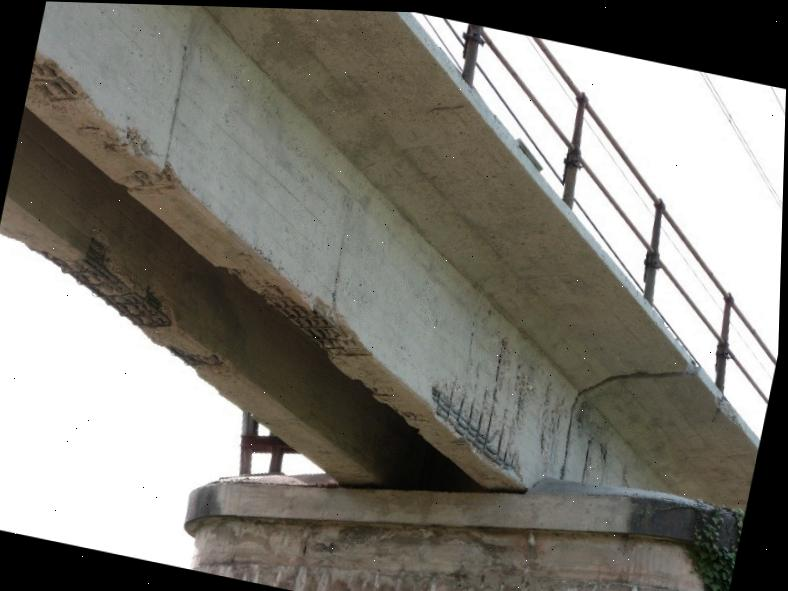spalling: (52, 238, 171, 327), (431, 383, 518, 470), (264, 288, 358, 348), (30, 62, 78, 99), (167, 345, 221, 366)
